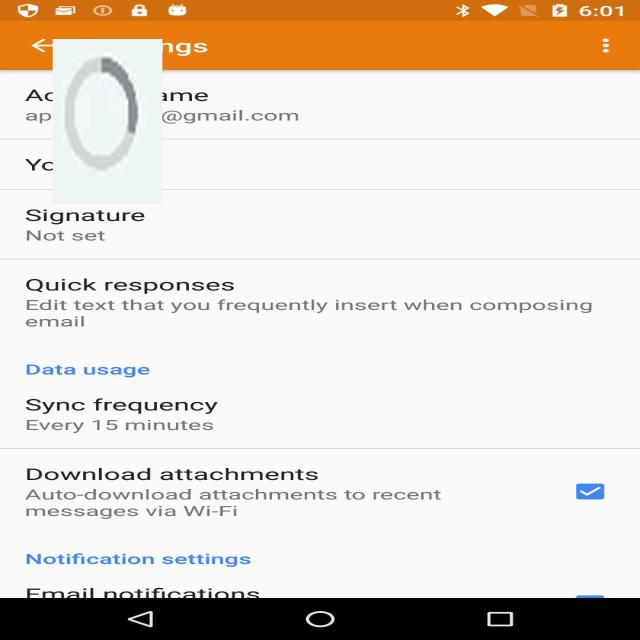misdirection: (53, 39, 162, 204)
